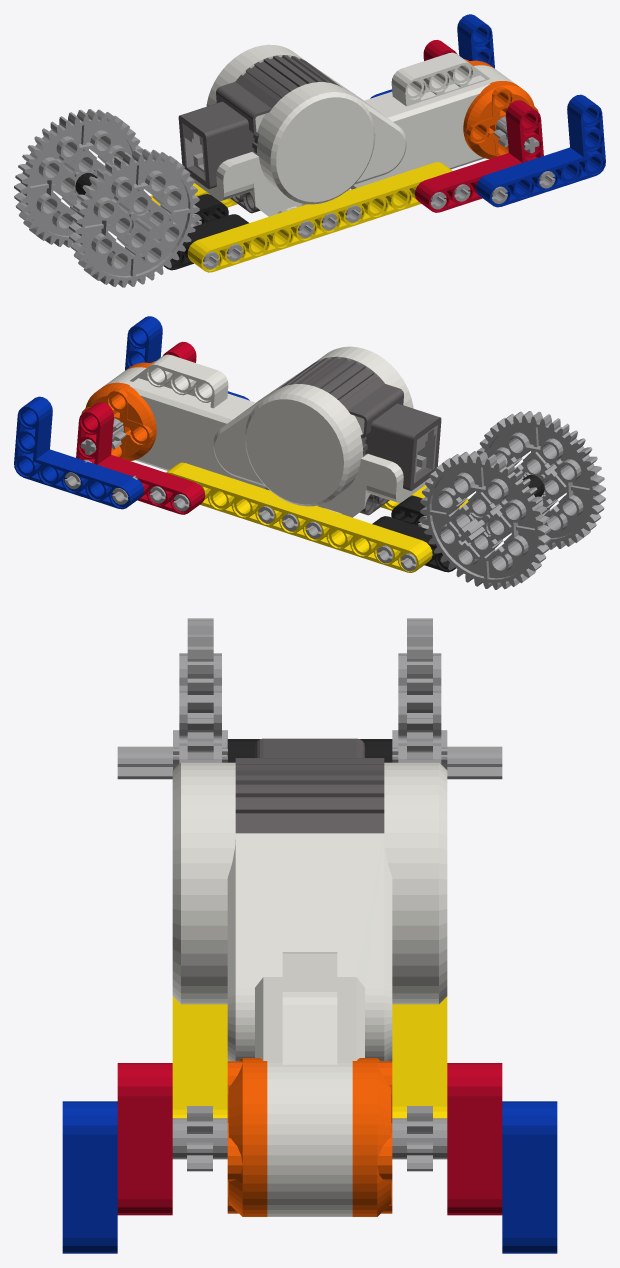
The model's file is Eslabon2.obj.
3 renders of one model, top to bottom at view 1: azimuth 30°, elevation 25°; view 2: azimuth 150°, elevation 25°; view 3: azimuth 270°, elevation 25°, orthographic. The views are drawn at different scales.
Parts seen in each view (by area): view 1: default; view 2: default; view 3: default.
Part boxes in pixels (left/top/right/bottom): default: left=14, top=14, right=605, bottom=287; default: left=14, top=316, right=605, bottom=589; default: left=62, top=618, right=557, bottom=1253.
Size of the model in its own units: 1.65 by 0.4797 by 0.7087.
